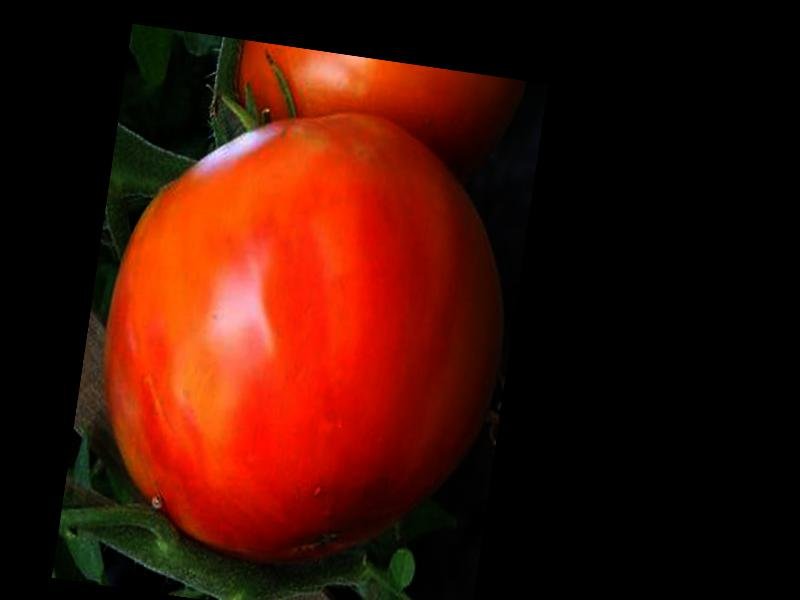Tomato: (77, 87, 531, 589)
